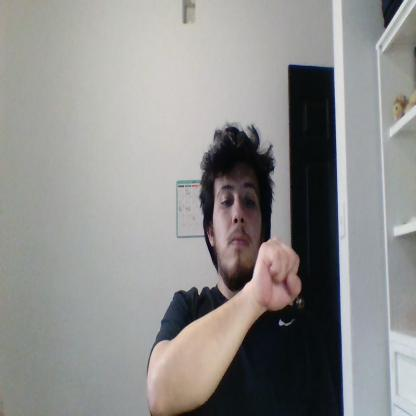S: (252, 238, 300, 312)
